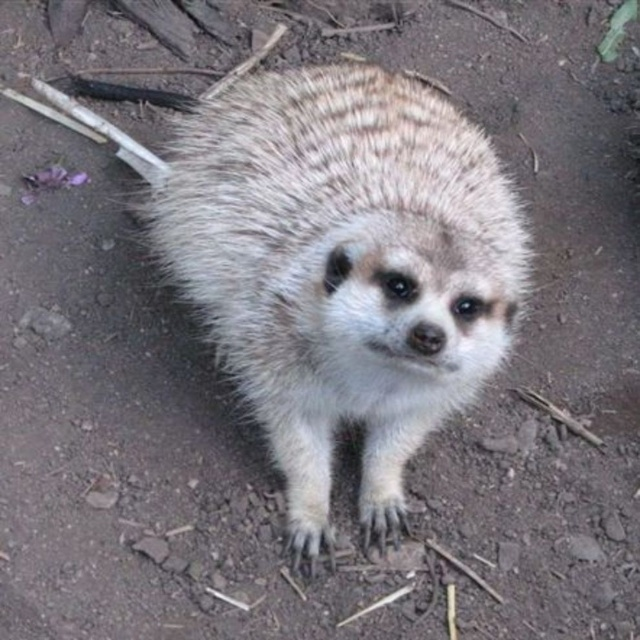Raccoon: (116, 63, 549, 574)
